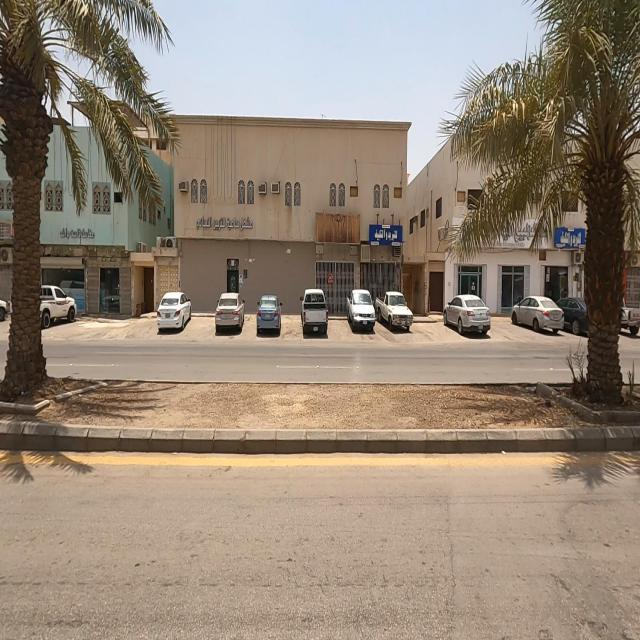debris: (274, 176, 396, 278)
